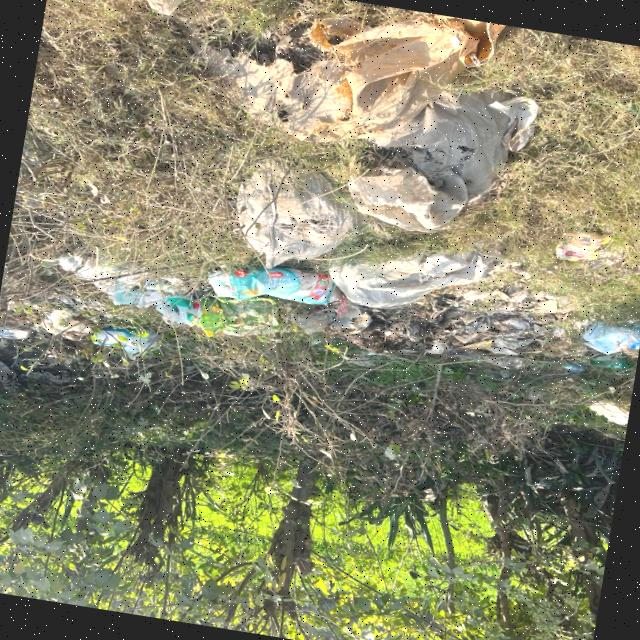garbage: (38, 0, 640, 443)
